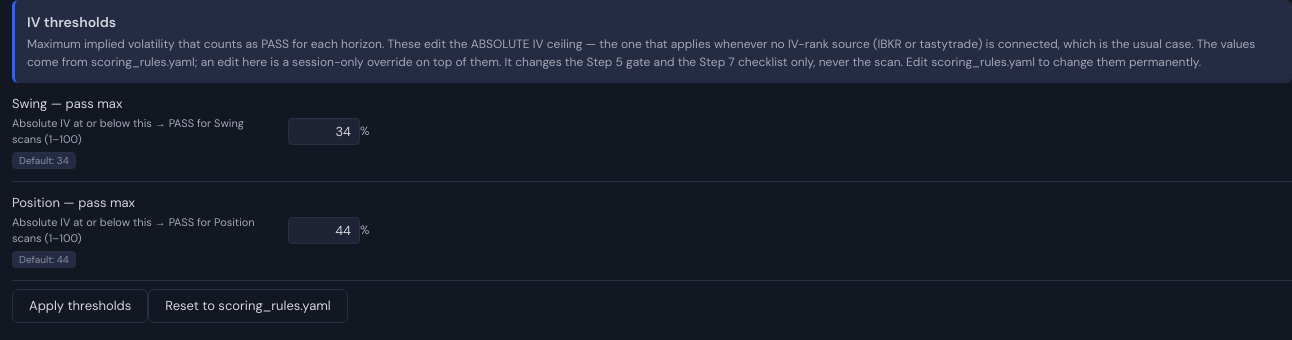
Test: IvThresholdsSection › G5b: refuses
Clear the field named "Swing pass max" at x=324, y=132, box left=288, top=118, right=360, bottom=145
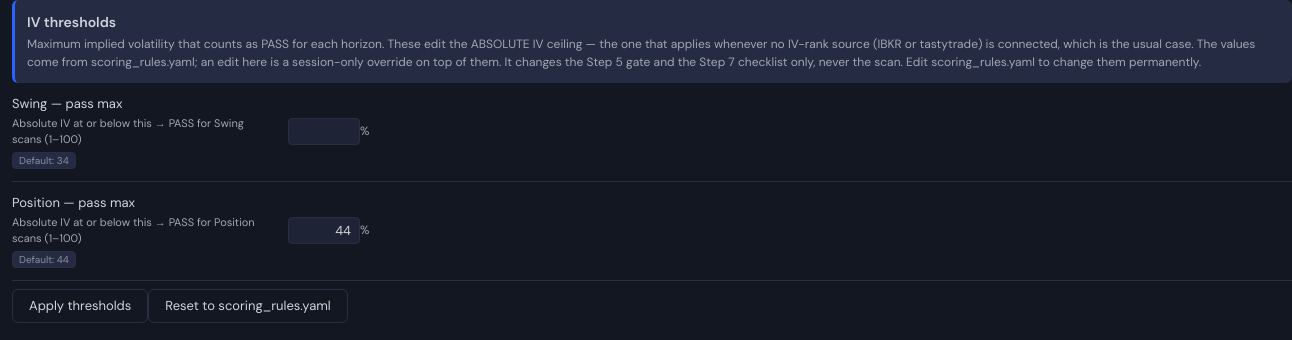
Click the button "Apply thresholds".
click(80, 306)  # box left=12, top=288, right=148, bottom=322
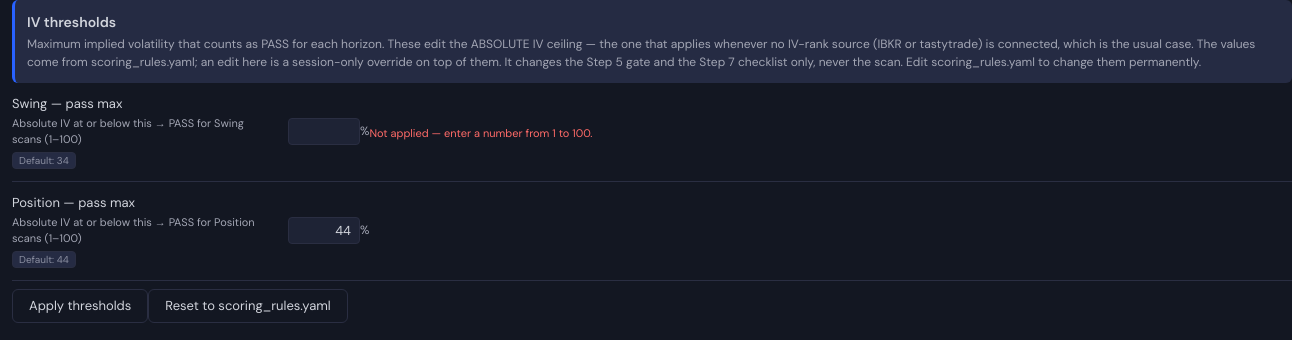
Check: the element showing "Not applied — enter a number from 1 to 100." is shown, box left=369, top=121, right=592, bottom=142
